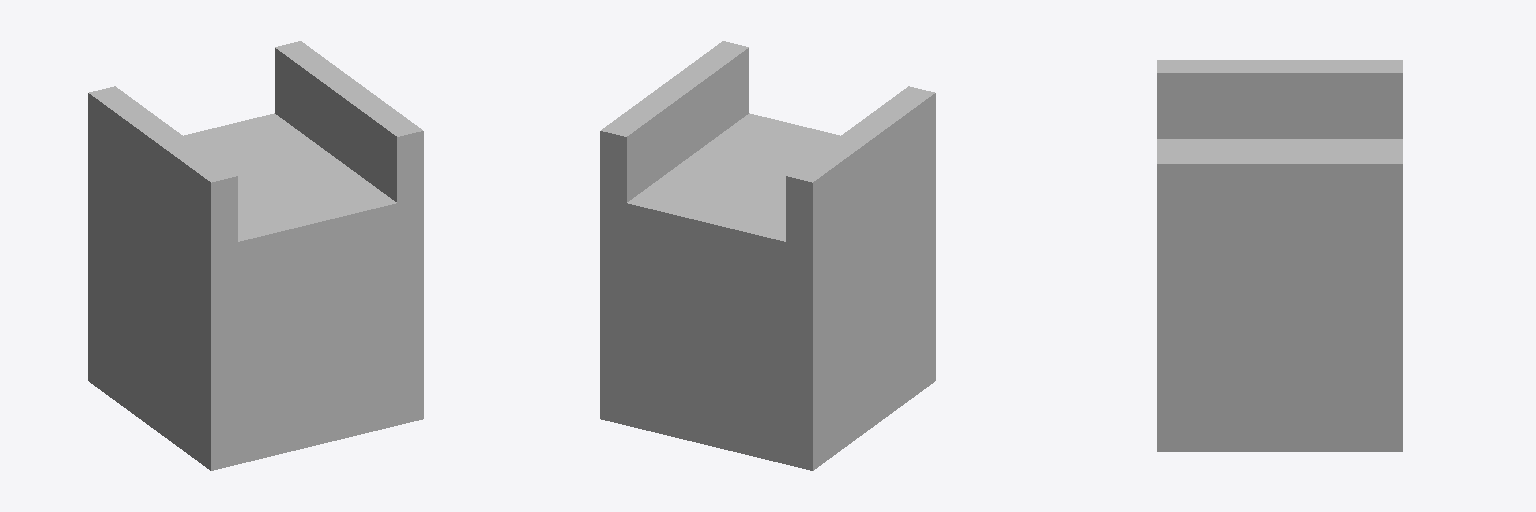
File: BandTest__.obj
3 renders of one model, left to right at view 1: azimuth 30°, elevation 25°; view 2: azimuth 150°, elevation 25°; view 3: azimuth 270°, elevation 25°, orthographic.
Parts seen in each view (by area): view 1: BandTest; view 2: BandTest; view 3: BandTest.
Part boxes in pixels (x1,y1,x2,y2): BandTest: (88, 41, 423, 470); BandTest: (600, 41, 935, 470); BandTest: (1157, 60, 1402, 451).
Bounding box in the file's own units: 1 × 1.3 × 1.